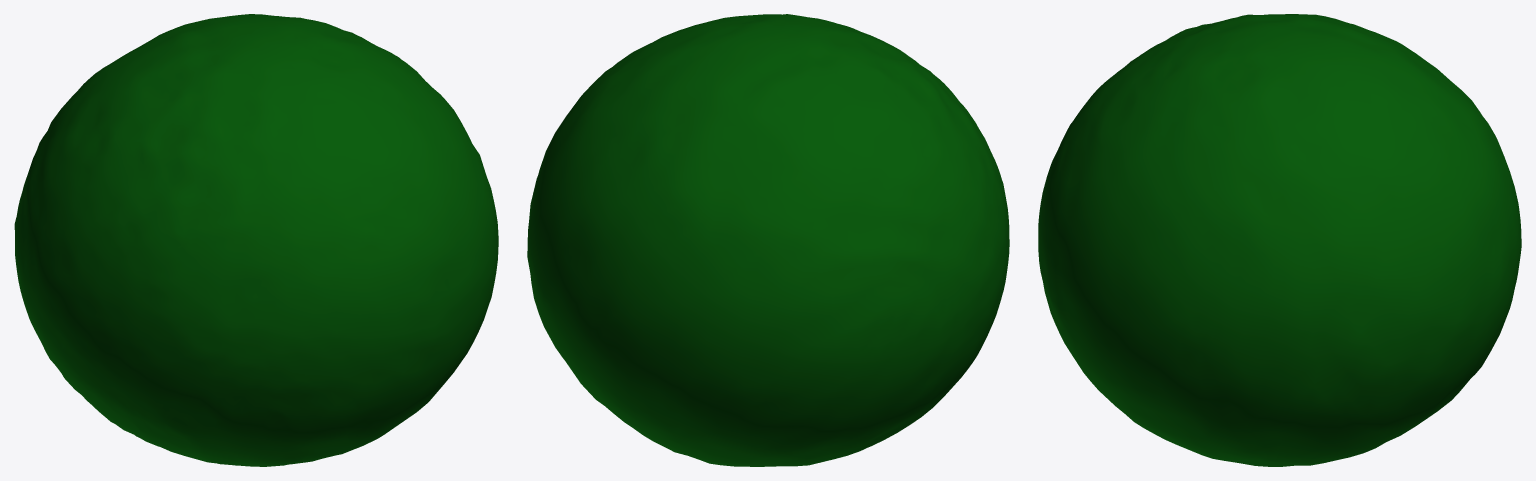
Rendered from Ceres_LP.fbx.
The picture shows the model from 3 angles, left to right: view 1: azimuth 30°, elevation 25°; view 2: azimuth 150°, elevation 25°; view 3: azimuth 270°, elevation 25°; orthographic projection.
Parts seen in each view (by area): view 1: CeresLP; view 2: CeresLP; view 3: CeresLP.
Boxes of the visible parts, x1,y1,x2,y2 form: CeresLP: (14,14,498,466); CeresLP: (527,14,1009,466); CeresLP: (1038,14,1521,466).
Bounding box in the file's own units: 9.68 × 8.96 × 9.66.
